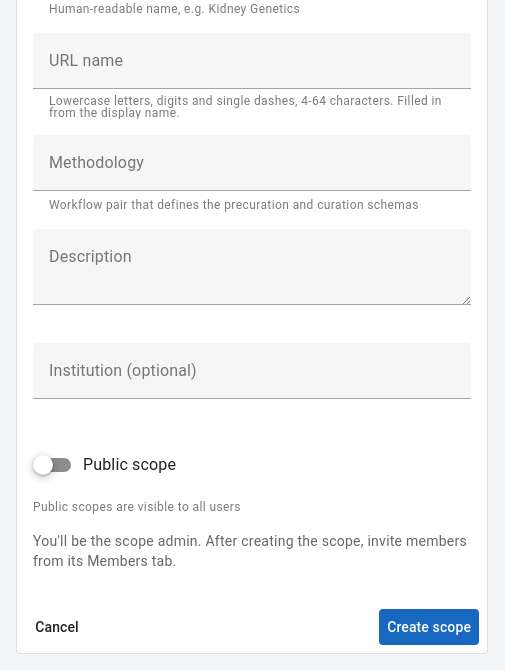
Test case: ScopeCreate › clears the URL name error once the display name fills it in
The image size is (505, 670).
(page scrolled)
Click the button "Create scope" at (429, 627), box [379,609,479,645]
(page scrolled)
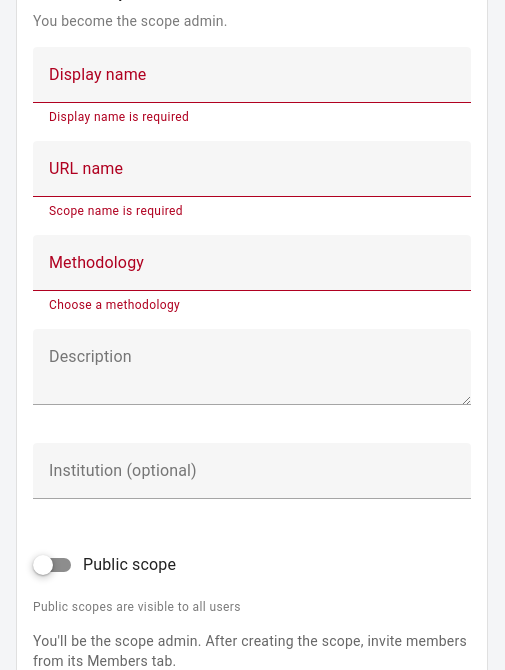
Expected: the text "Scope name is required" is shown, [49,204,183,218]
Type "Kidney Genetics" into the field labelled "Display name" at (252, 75), box [33,47,471,103]
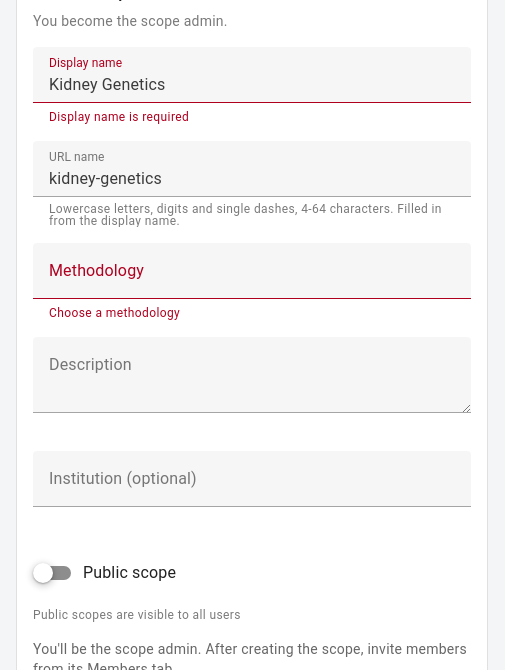
Expected: the text "Scope name is required" is gone
